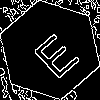E: (25, 25, 82, 81)
